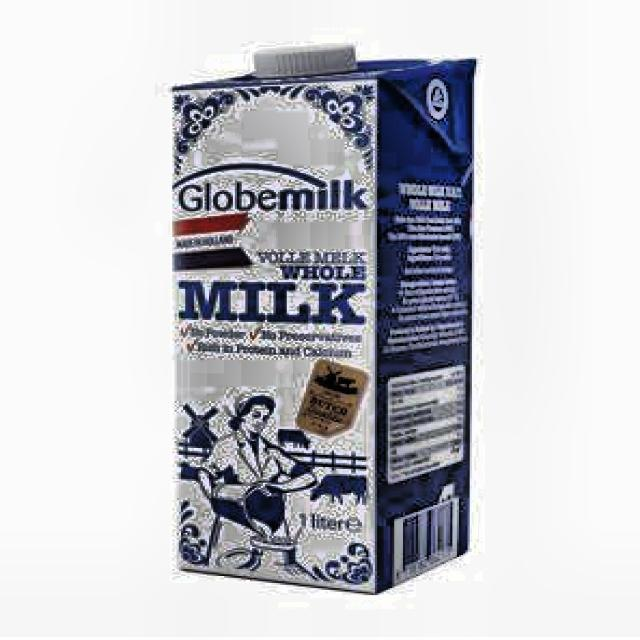cardboard: (168, 47, 476, 596)
